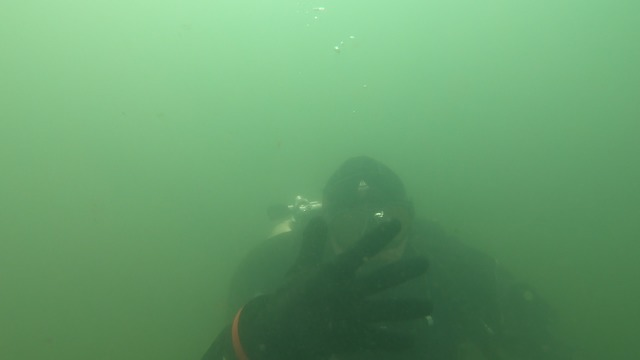Diver: (194, 158, 587, 357)
Hand: (226, 212, 446, 352)
Head: (316, 162, 434, 293)
